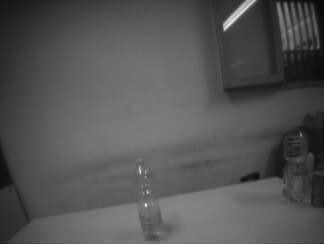Bottle: (131, 158, 165, 241), (281, 125, 308, 203)
